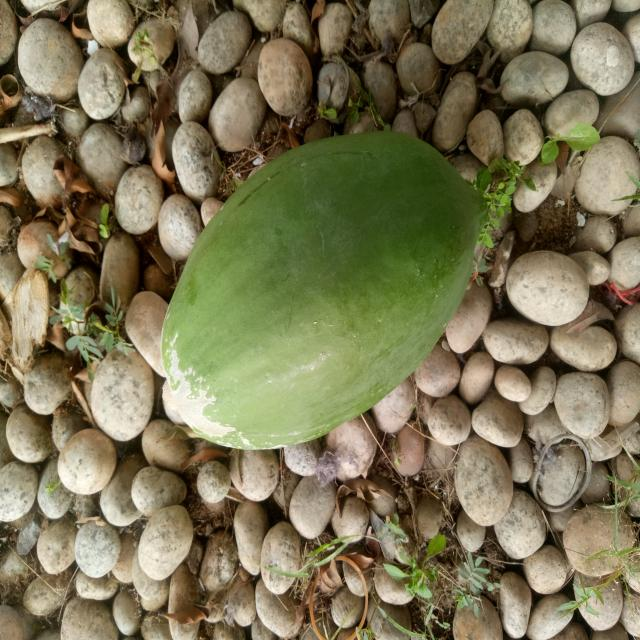Pepaya unrippen: (160, 132, 490, 457)
